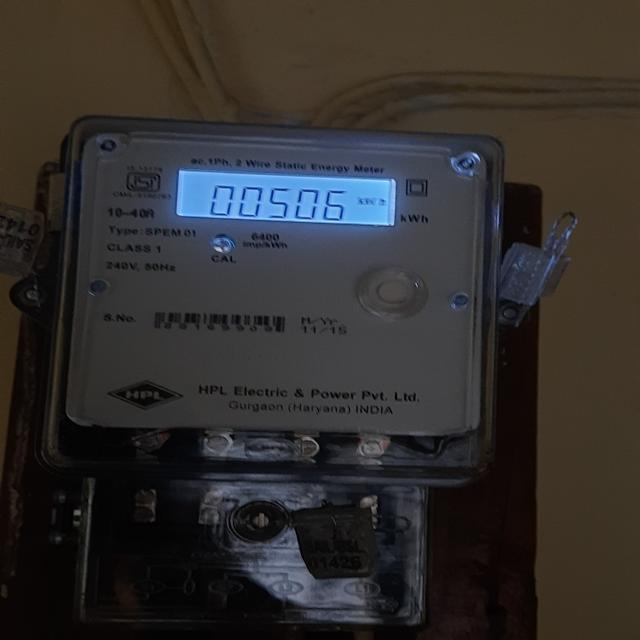display: (178, 172, 403, 229)
